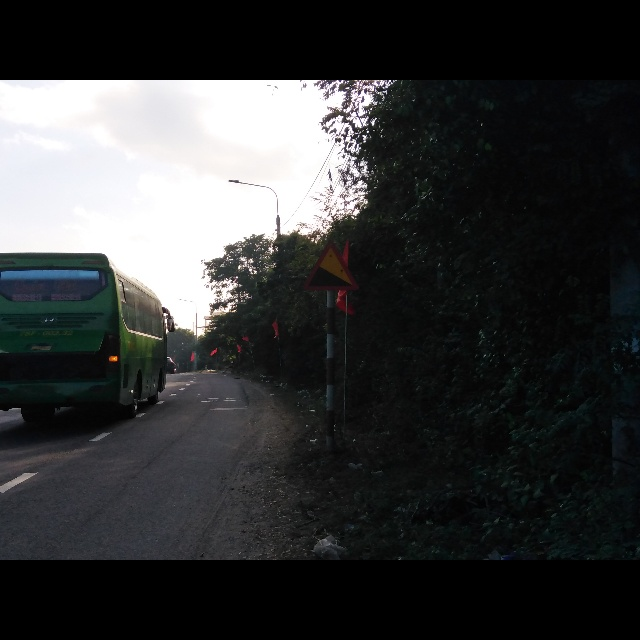Dốc lên nguy hiểm: (299, 233, 357, 297)
